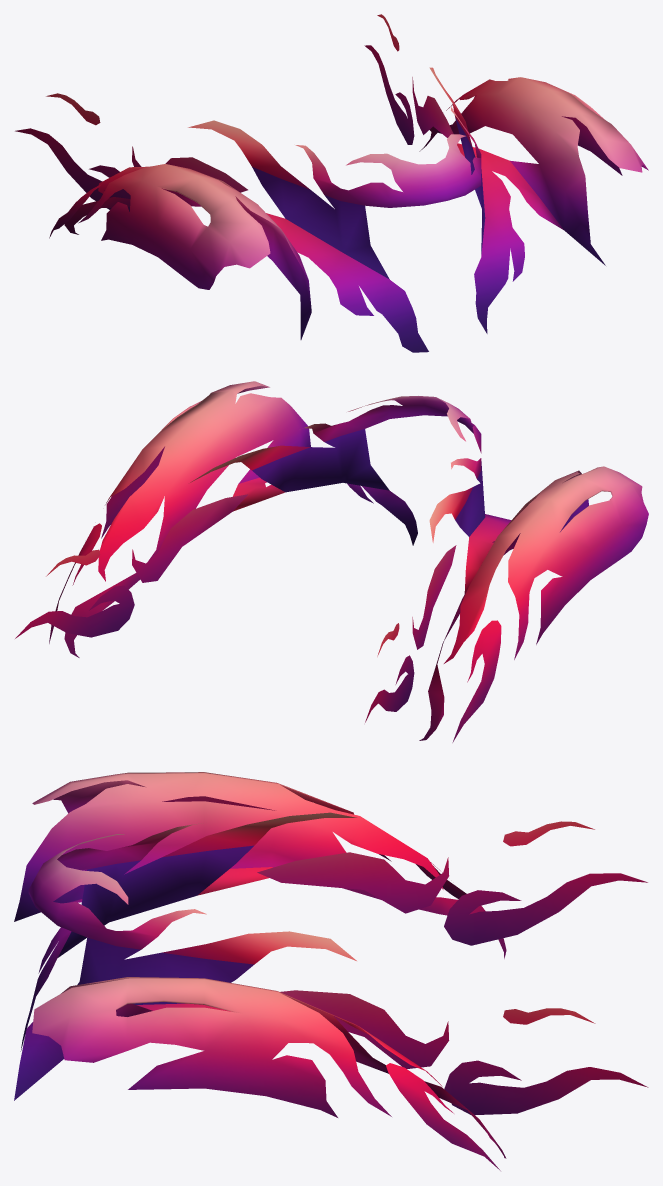
Rendered from Monster_Truck_9A_Muffler_Flames.fbx.
3 renders of one model, top to bottom at view 1: azimuth 30°, elevation 25°; view 2: azimuth 150°, elevation 25°; view 3: azimuth 270°, elevation 25°, orthographic. The views are drawn at different scales.
Visible parts, largest first — view 1: Monster_Truck_9A_Livery; view 2: Monster_Truck_9A_Livery; view 3: Monster_Truck_9A_Livery.
Part boxes in pixels (bbox=[...]): Monster_Truck_9A_Livery: bbox=[15, 14, 648, 352]; Monster_Truck_9A_Livery: bbox=[15, 381, 648, 742]; Monster_Truck_9A_Livery: bbox=[14, 772, 648, 1170].
Bounding box in the file's own units: 2618 × 1008 × 2753.
